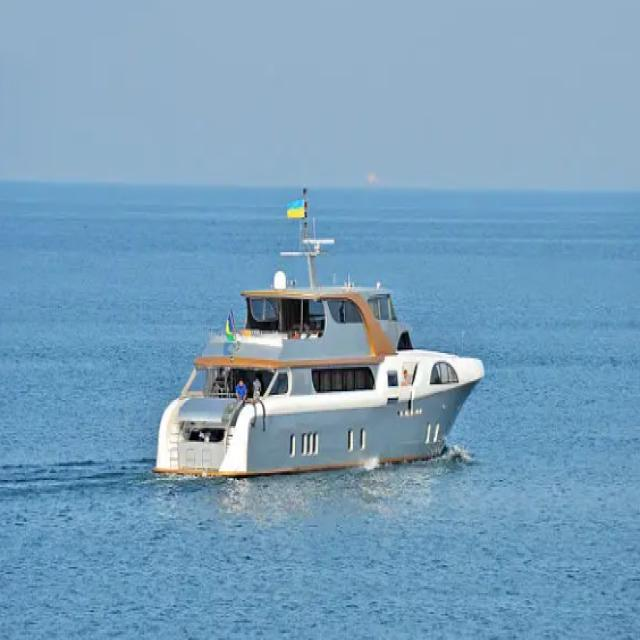passenger ship: (147, 225, 487, 471)
